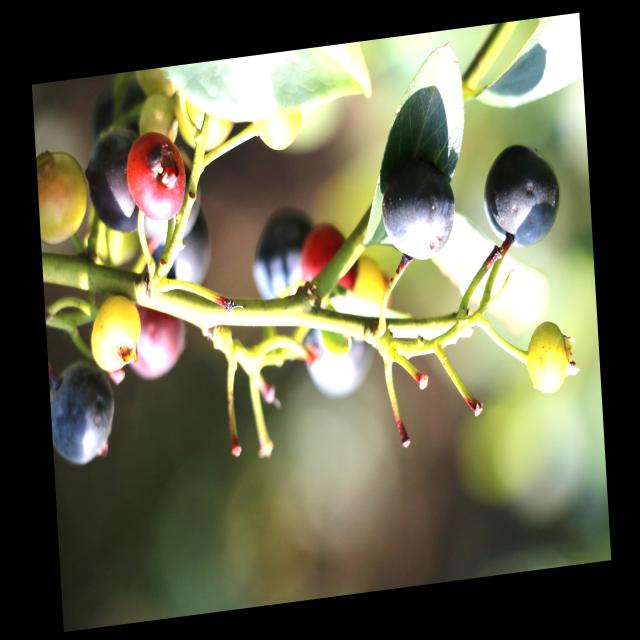blueberry: (374, 144, 462, 276), (287, 299, 375, 413), (479, 140, 564, 253), (251, 195, 327, 318), (48, 356, 121, 475), (80, 119, 144, 249), (146, 209, 217, 312)
blueberry-halfripe: (125, 126, 187, 226), (124, 295, 186, 382), (300, 221, 360, 306)
blueberry-unripe: (36, 146, 89, 246), (88, 287, 142, 373), (523, 315, 574, 398), (250, 90, 304, 153)
